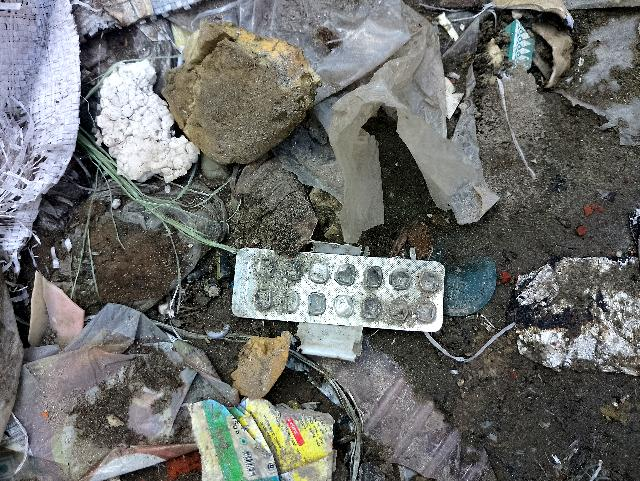medicine: (236, 237, 452, 338)
